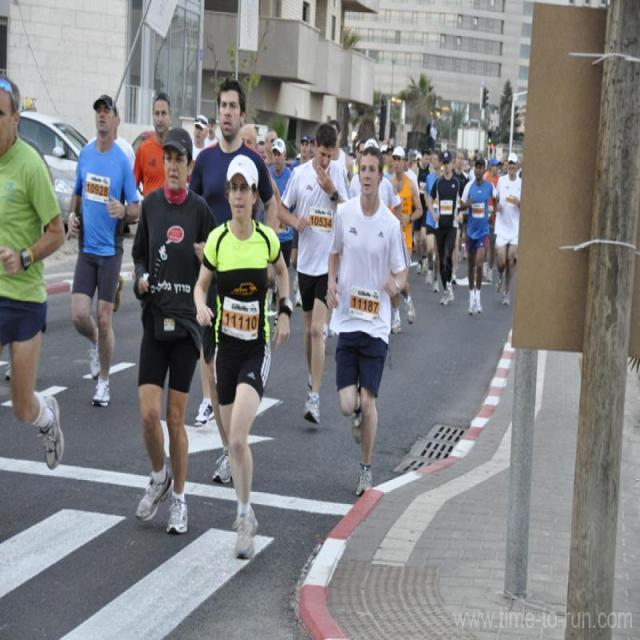dorsal: (220, 292, 264, 346), (349, 282, 385, 326), (85, 170, 114, 208), (307, 202, 335, 236)
